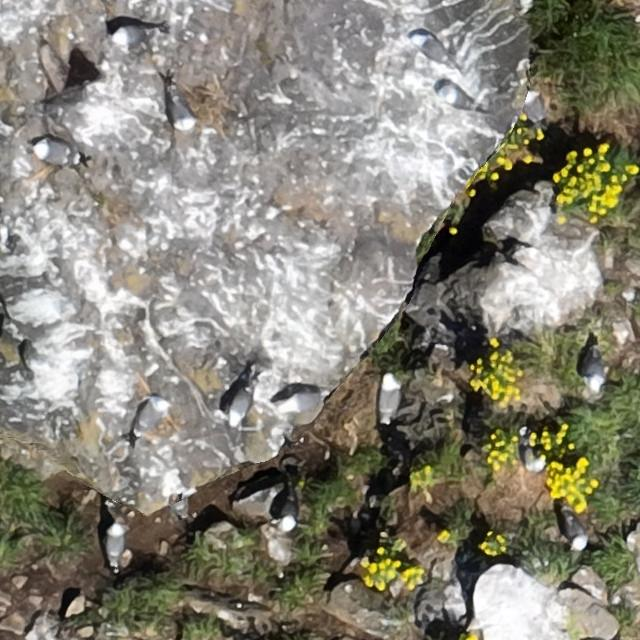umineko: (407, 30, 455, 66), (438, 85, 482, 114), (522, 432, 550, 476), (138, 398, 166, 432), (35, 143, 74, 165), (228, 388, 251, 424), (379, 378, 399, 418), (170, 94, 193, 128), (283, 392, 322, 412), (584, 353, 605, 390), (108, 524, 126, 563), (566, 516, 588, 547), (524, 91, 543, 122), (116, 26, 148, 44), (281, 497, 298, 530)
